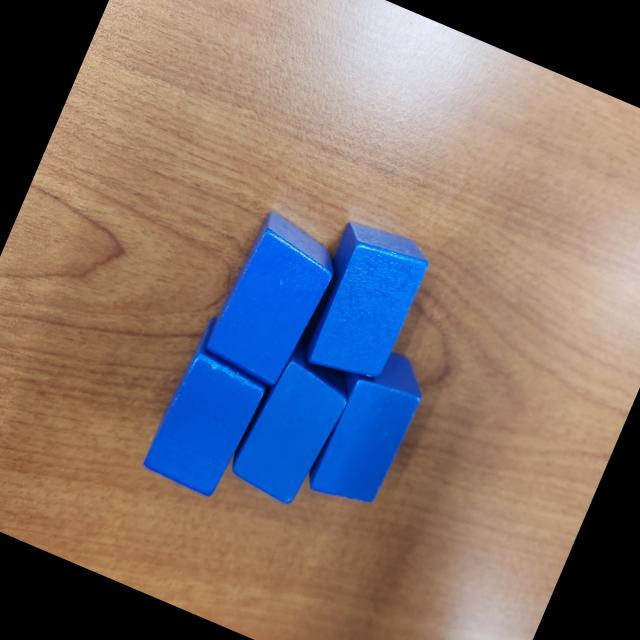blue: (140, 312, 284, 503), (199, 206, 347, 390), (288, 211, 436, 394), (298, 335, 435, 517), (224, 332, 362, 512)
